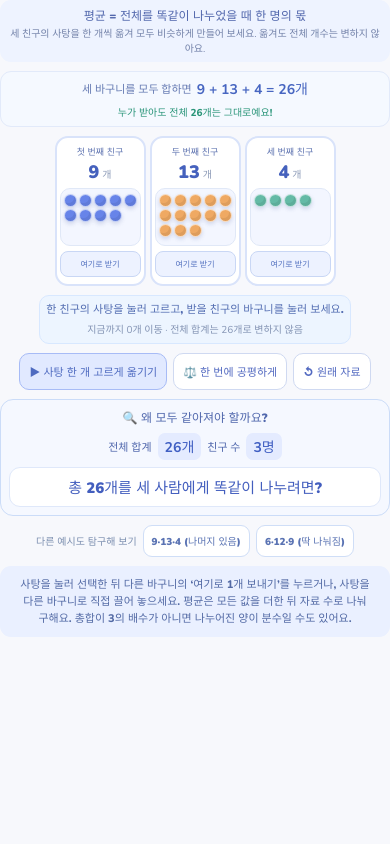
Scenario: 평균은 고르게 나누기 › 6,12,9는 세 번 이동하면 각각 9개로 정확히 나누어진다
Click the button "6·12·9 (딱 나눠짐)".
click(305, 541)  # box x1=256 y1=525 x2=354 y2=557
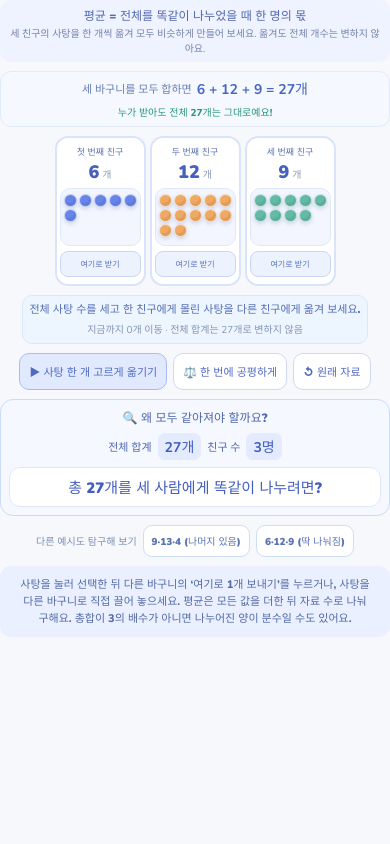
Result: the text "6 + 12 + 9 = 27개" is shown at x1=197 y1=78 x2=308 y2=99
Click the button "▶ 사탕 한 개 고르게 옮기기".
click(93, 372)  # box x1=20 y1=353 x2=167 y2=390
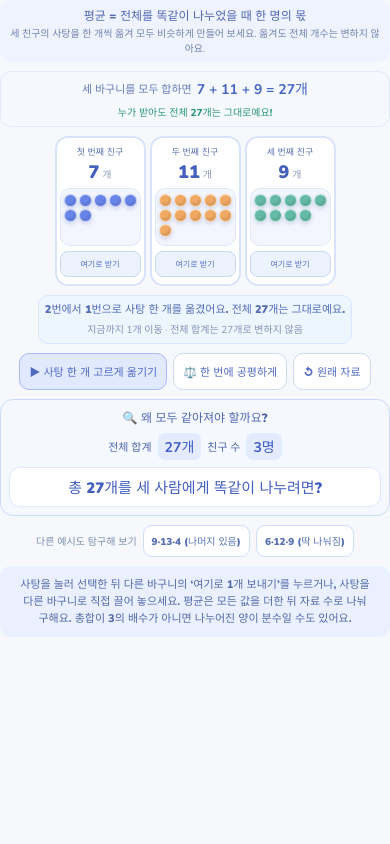
Click the button "▶ 사탕 한 개 고르게 옮기기".
click(93, 372)  # box x1=20 y1=353 x2=167 y2=390
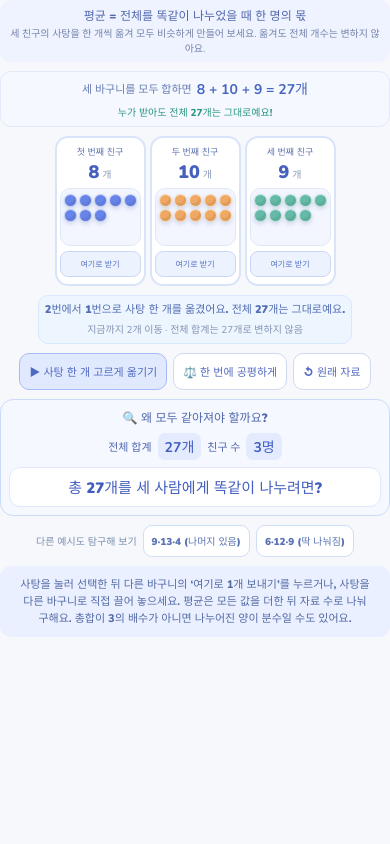
Click the button "▶ 사탕 한 개 고르게 옮기기".
click(93, 372)  # box x1=20 y1=353 x2=167 y2=390
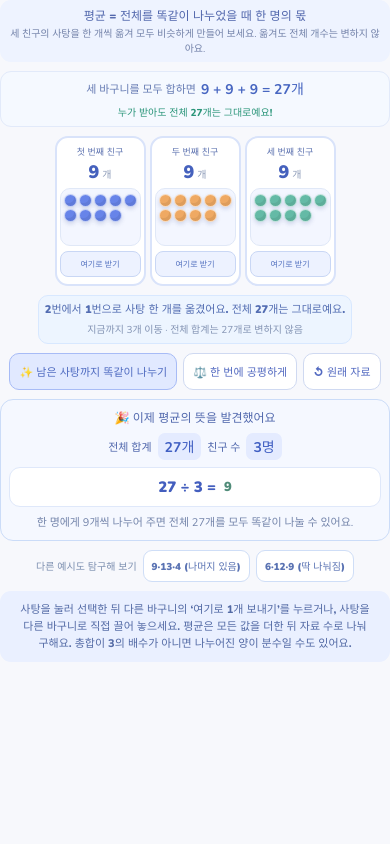
Result: the text "9 + 9 + 9 = 27개" is shown at x1=201 y1=78 x2=304 y2=99
Click the button "✨ 남은 사탕까지 똑같이 나누기".
click(93, 372)  # box x1=10 y1=353 x2=177 y2=390
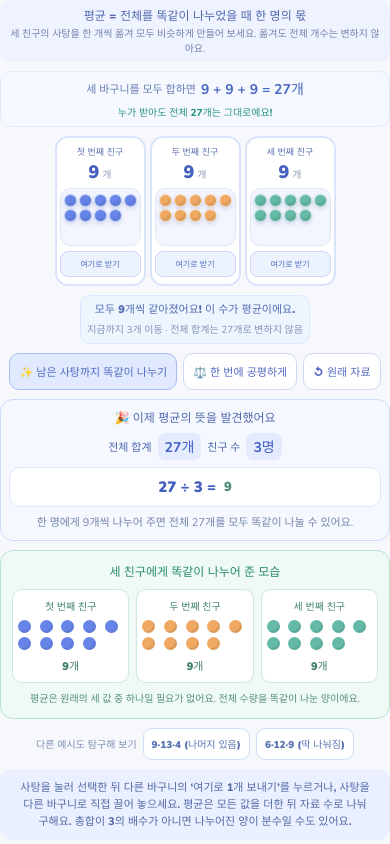
Result: the text "모두 9개씩 같아졌어요! 이 수가 평균이에요." is shown at x1=87 y1=302 x2=303 y2=318
